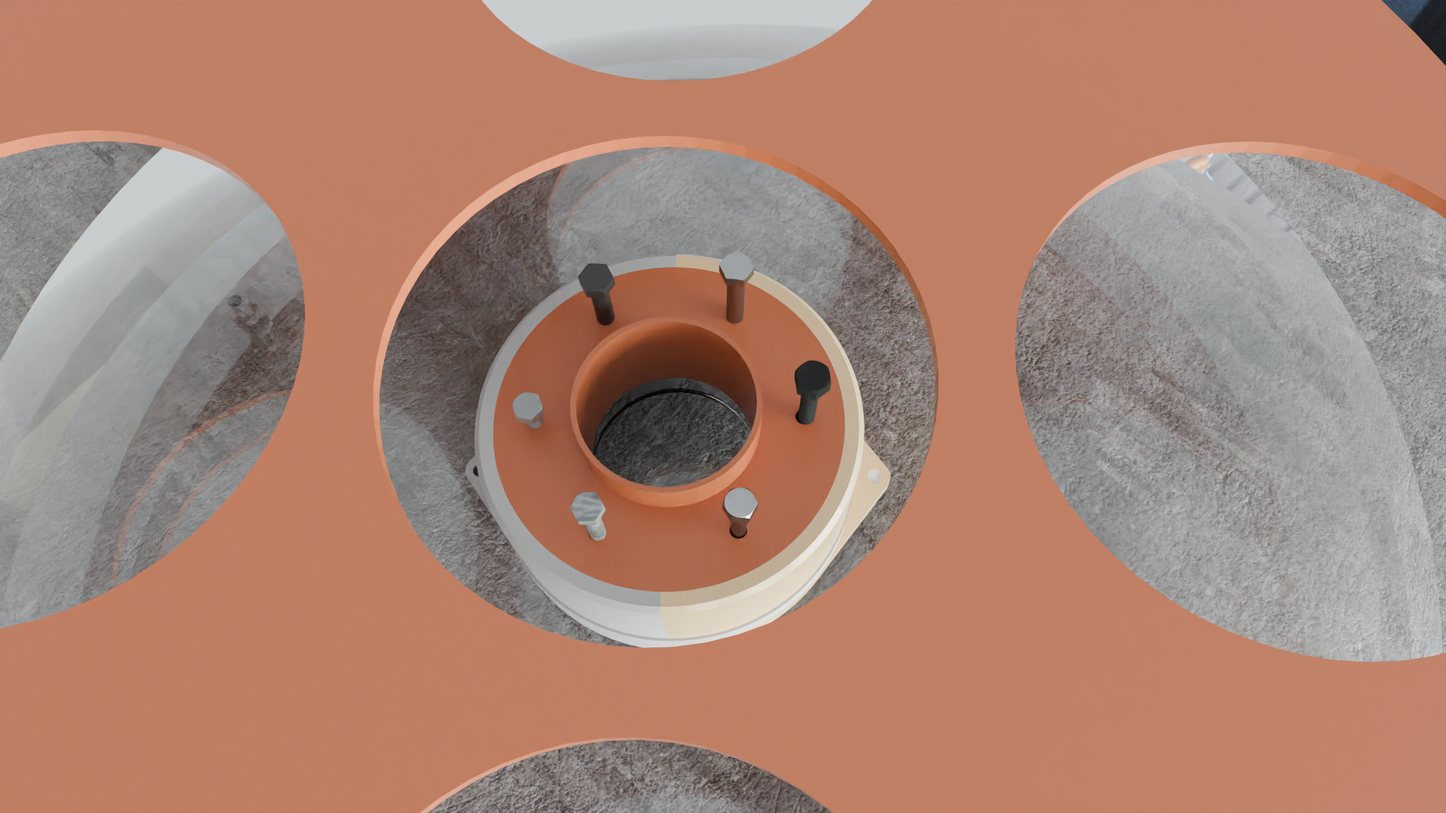bolt: (795, 360, 831, 395), (722, 488, 758, 519), (578, 263, 614, 292), (570, 492, 604, 522), (719, 252, 754, 281), (511, 391, 543, 420)
